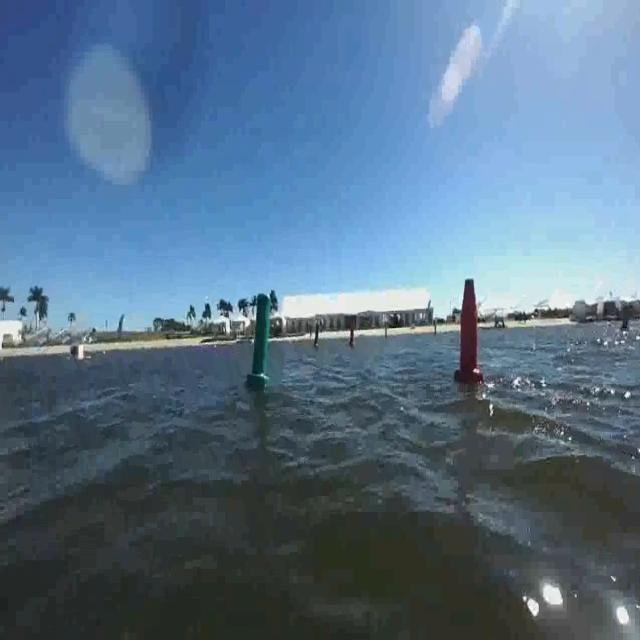green-column-buoy: (247, 293, 275, 387)
red-column-buoy: (456, 272, 484, 384)
